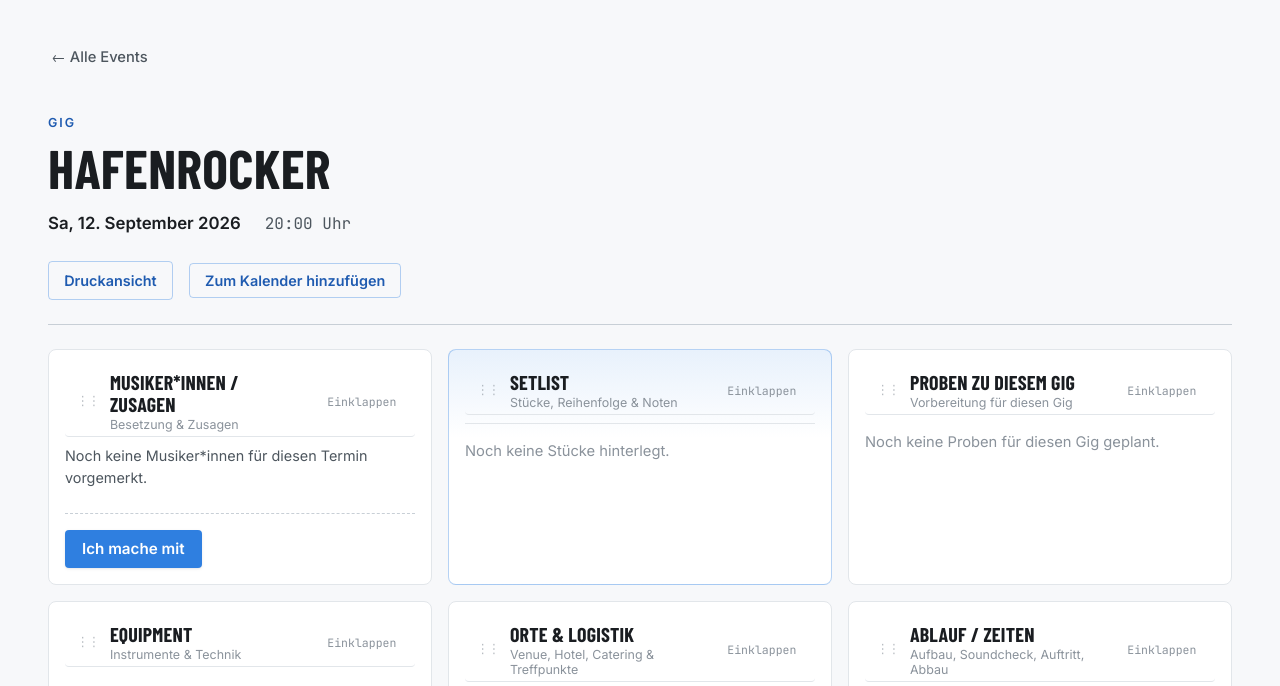
Test: EventDetailComponent › should join and keep the own status color synchronized
Click the button with class "members__add--primary": click(133, 549) [65,530,202,568]
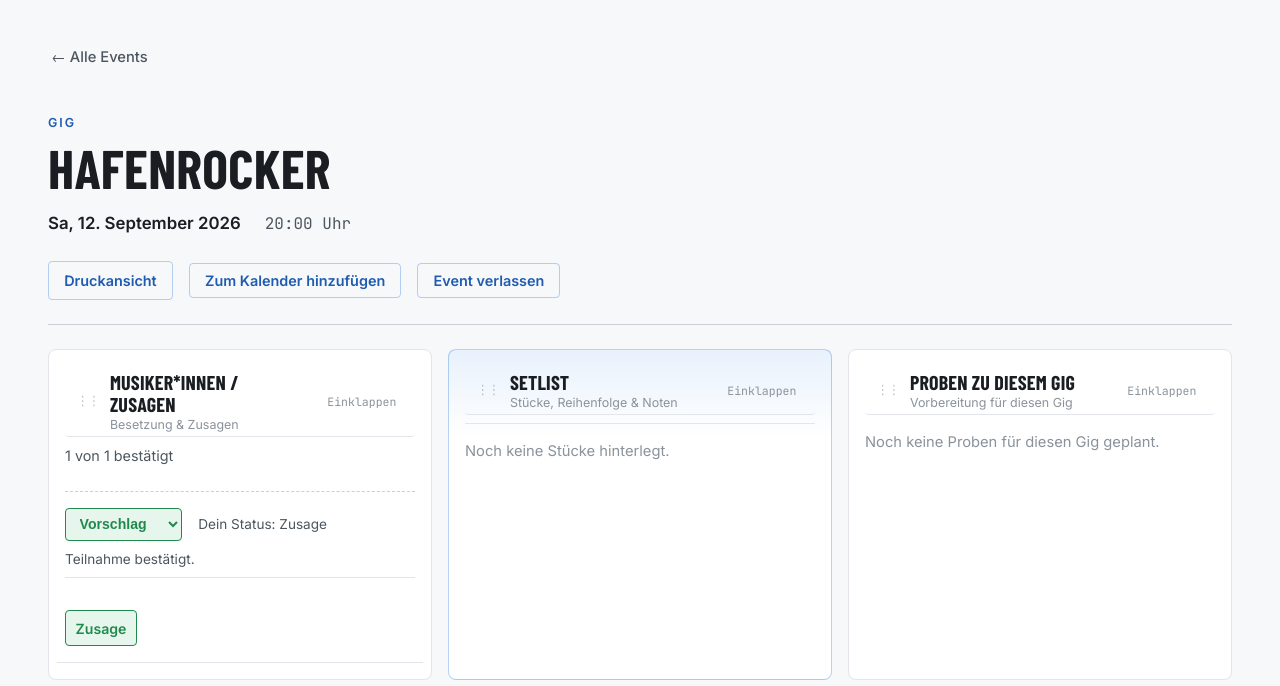
Expected: the text "Teilnahme bestätigt." is shown, [65,551,195,567]
Expected: the text with class "members__self-hint" shows "Zusage", [198,516,327,532]
Select "Vorschlag" in the dropdown with id "self-status": (124, 524) [65,508,182,541]
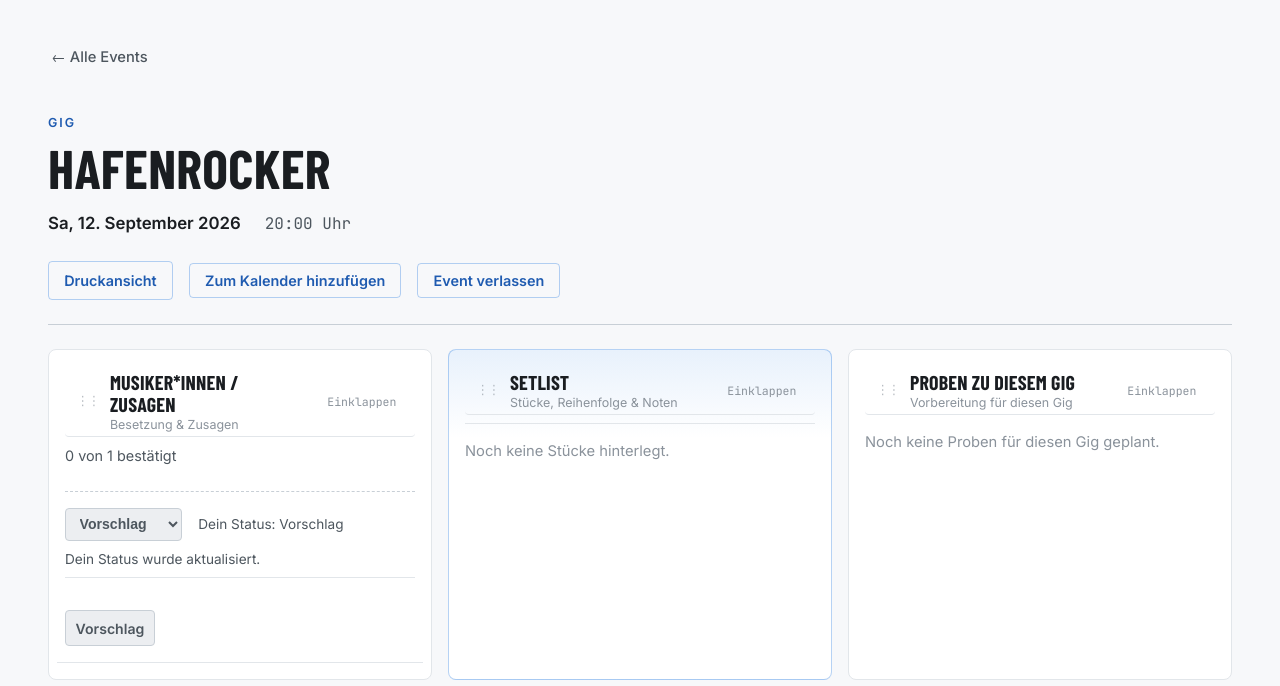
Expected: the text "Dein Status wurde aktualisiert." is shown, [65,551,260,567]
